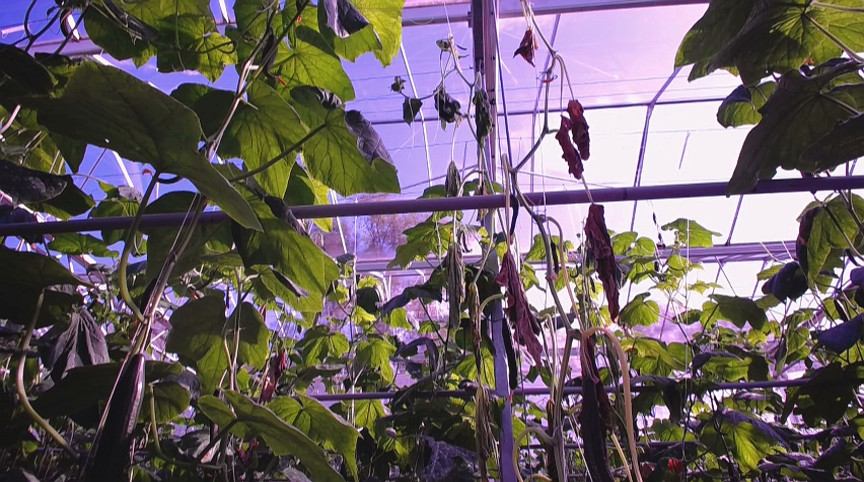cucumber: (92, 352, 148, 481)
